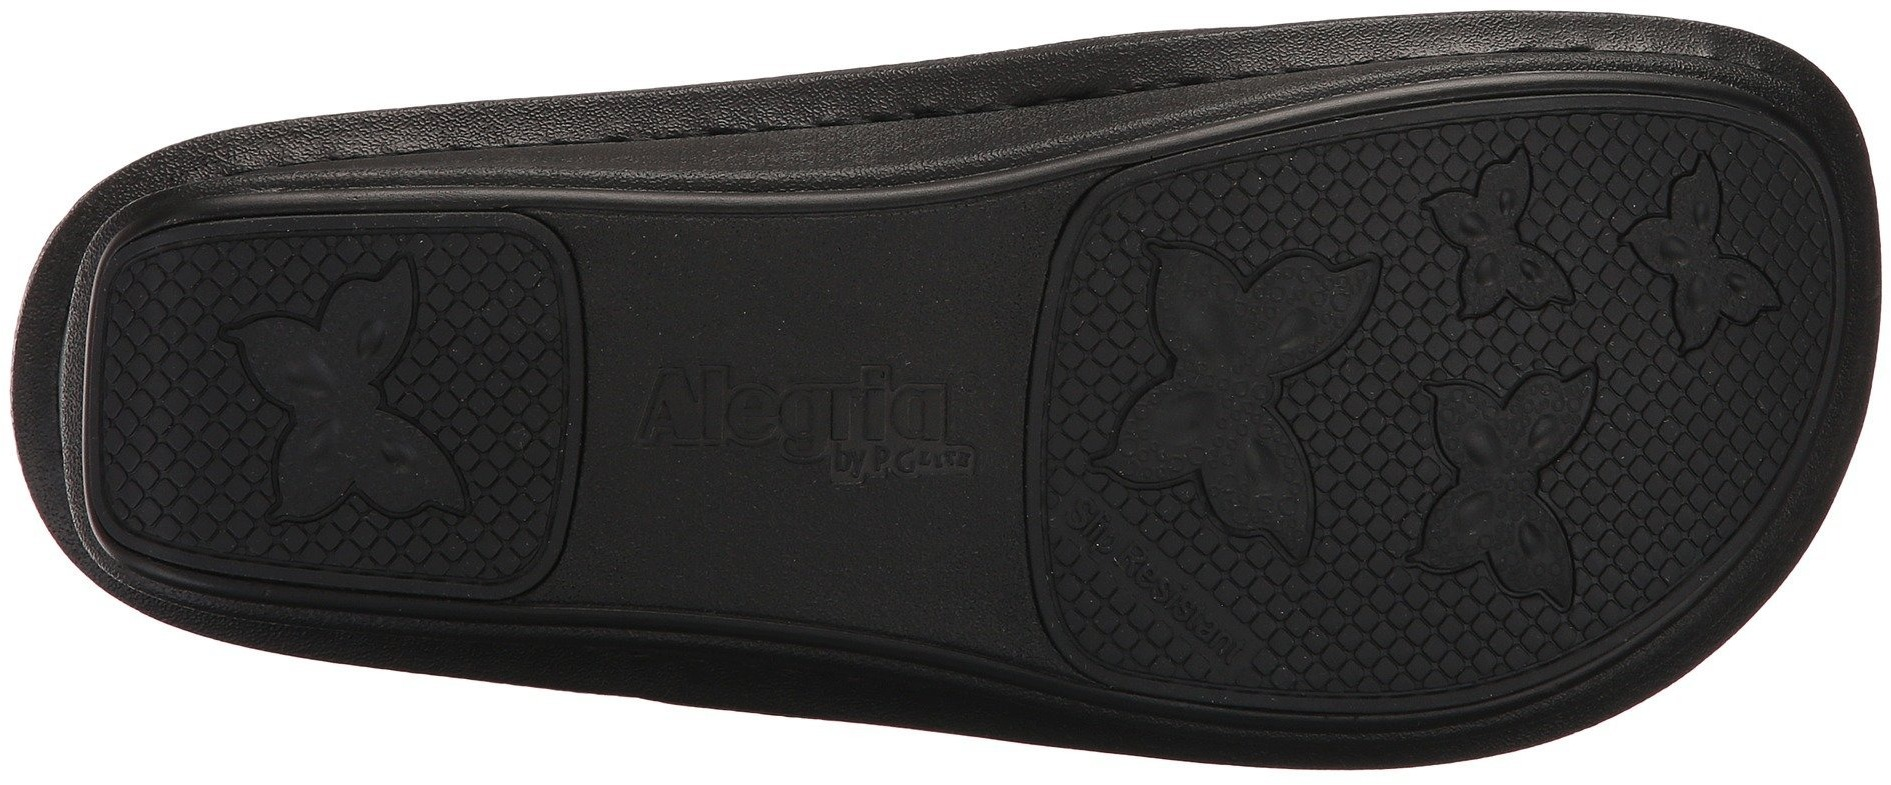other: (1041, 112, 1836, 699)
quad: (99, 235, 569, 584)
